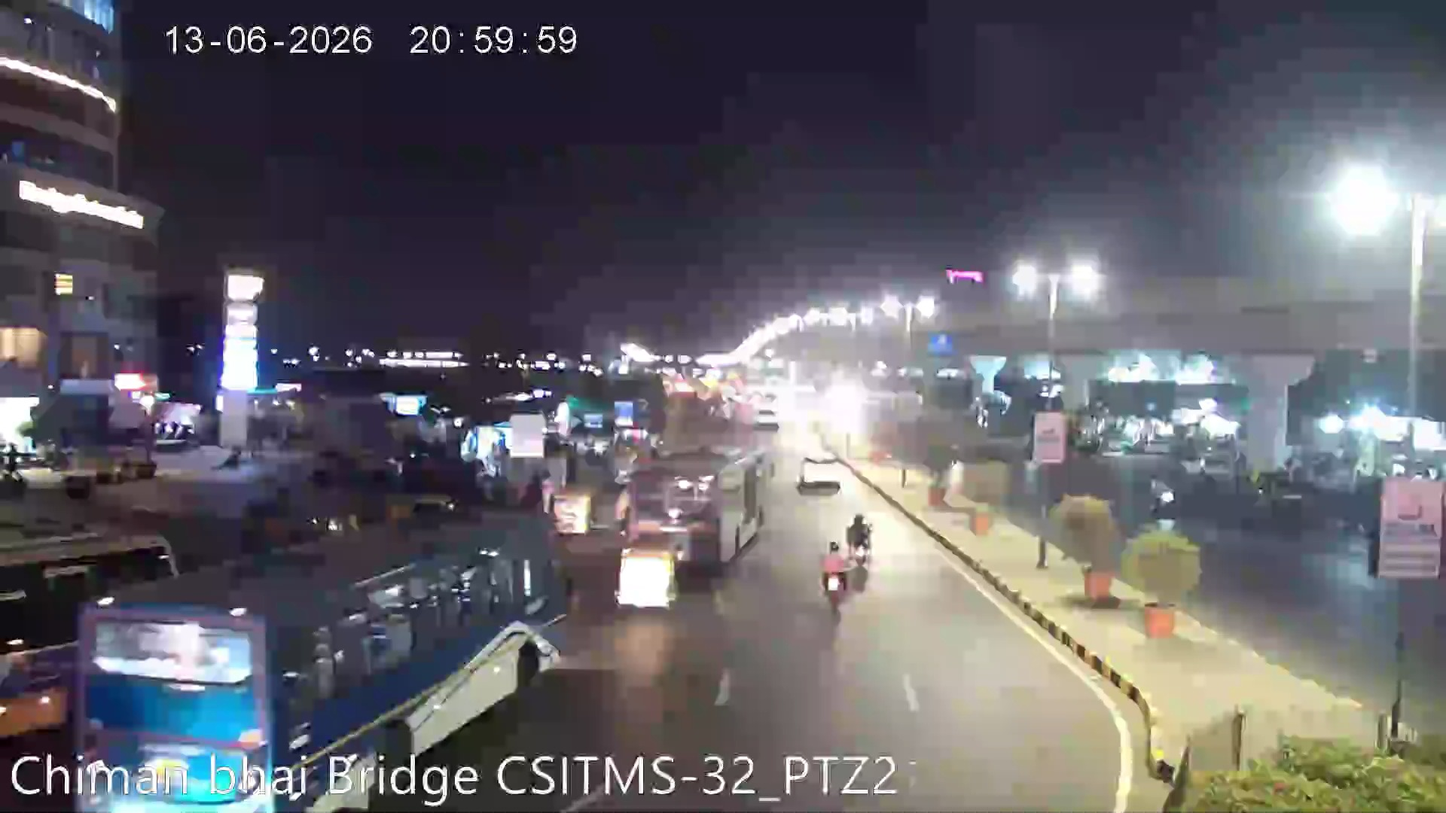auto_rickshaw: (609, 541, 685, 614)
bus: (26, 484, 590, 798), (0, 520, 253, 762), (0, 526, 182, 773), (615, 441, 769, 574)
car: (795, 454, 846, 495)
two_wheeler: (815, 534, 849, 617), (844, 510, 881, 577), (847, 521, 881, 585)
